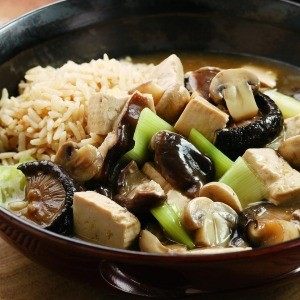mushroom_brain food: (185, 196, 232, 240), (211, 67, 259, 109), (27, 170, 63, 220), (160, 141, 195, 184)
